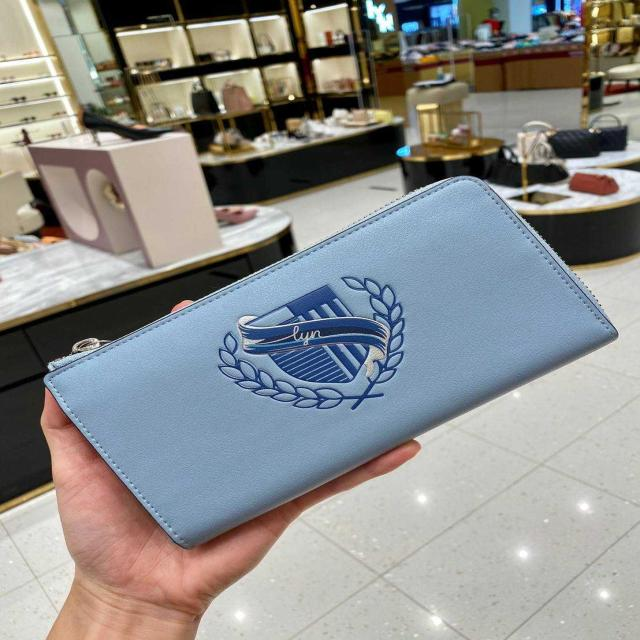Handbag: (33, 171, 619, 564)
